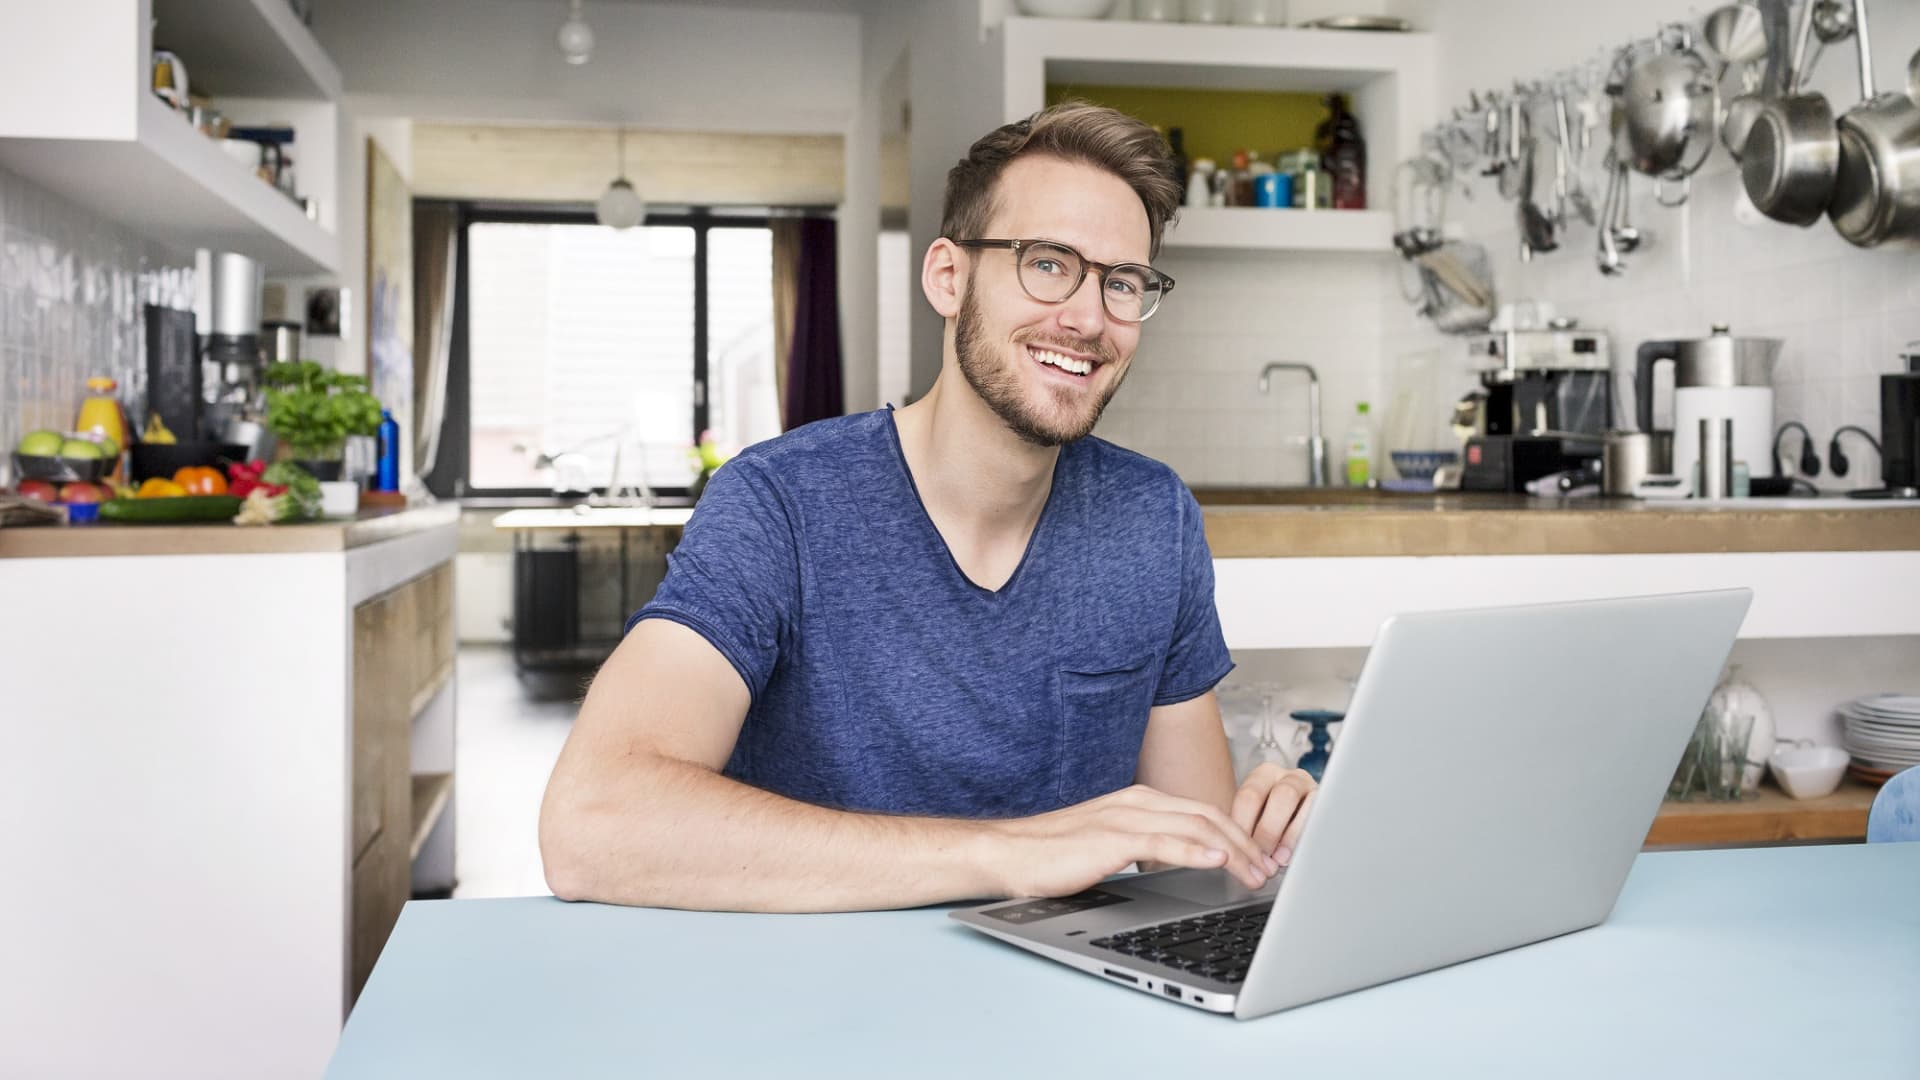person: (959, 136, 1150, 438)
